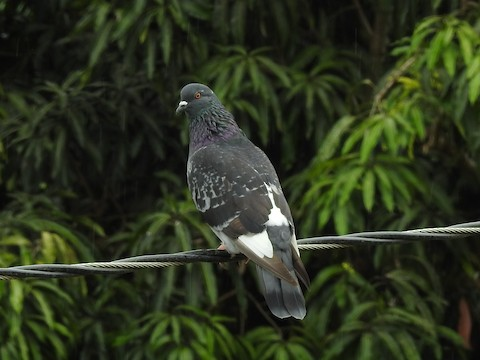pigeon: (169, 75, 312, 327)
